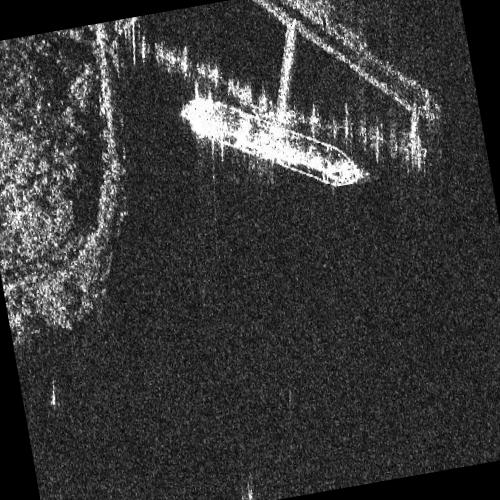ship: (179, 94, 366, 189)
